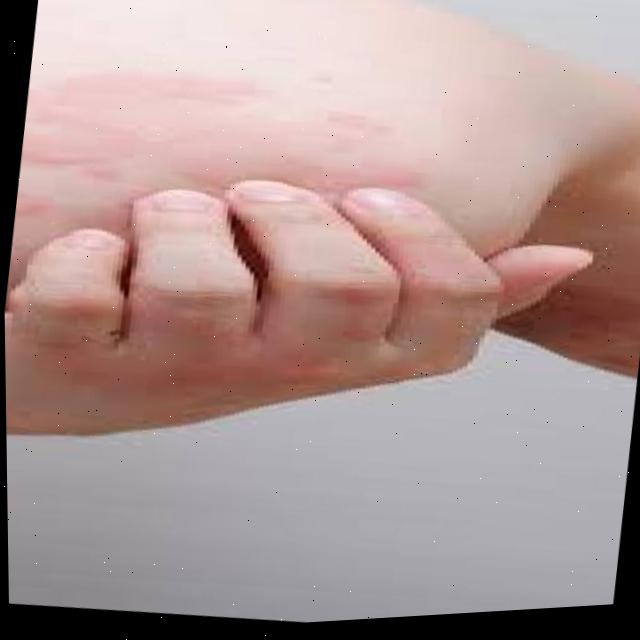Eczema: (8, 39, 478, 301)
